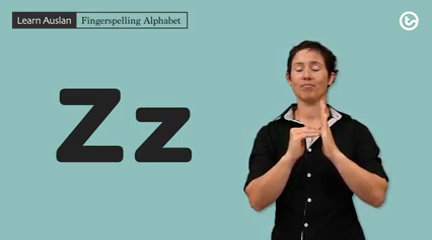Z: (283, 96, 340, 168)
